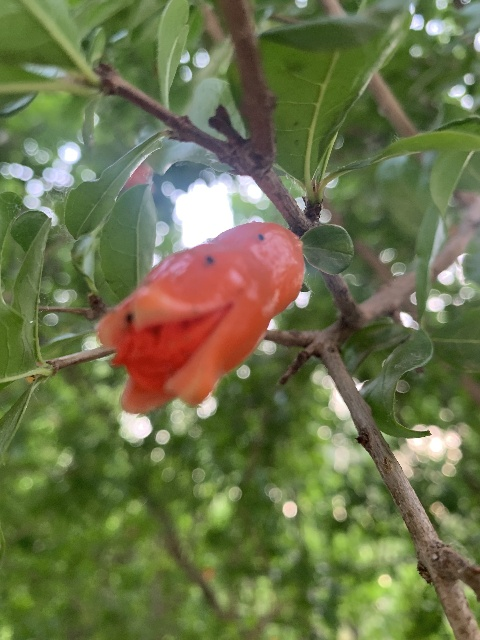flower: (97, 221, 304, 413)
